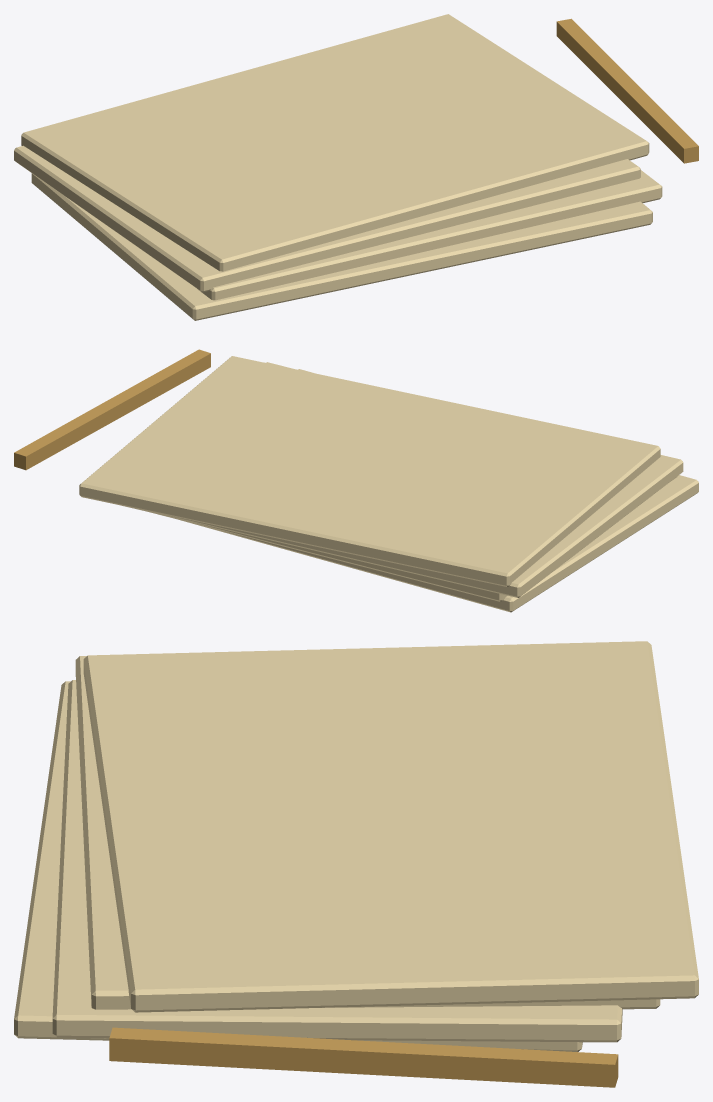
Rendered from residential_accessories_20.glb.
The picture shows the model from 3 angles, top to bottom: view 1: azimuth 30°, elevation 25°; view 2: azimuth 150°, elevation 25°; view 3: azimuth 270°, elevation 25°; orthographic projection. The views are drawn at different scales.
Visible parts, largest first — view 1: Paper_003, Paper, Paper_002, Paper_001, Pen; view 2: Paper_003, Paper_002, Paper, Pen, Paper_001; view 3: Paper_003, Paper_001, Pen, Paper, Paper_002.
Boxes of the visible parts, bbox=[...] form: Paper_003: bbox=[21, 14, 649, 271]; Paper: bbox=[31, 173, 652, 320]; Paper_002: bbox=[14, 145, 640, 292]; Paper_001: bbox=[198, 170, 662, 300]; Pen: bbox=[556, 18, 698, 163]; Paper_003: bbox=[79, 356, 660, 586]; Paper_002: bbox=[122, 362, 683, 597]; Paper: bbox=[181, 369, 698, 612]; Pen: bbox=[14, 349, 210, 470]; Paper_001: bbox=[153, 362, 676, 601]; Paper_003: bbox=[83, 641, 698, 1012]; Paper_001: bbox=[52, 680, 622, 1042]; Pen: bbox=[109, 1027, 618, 1087]; Paper: bbox=[14, 681, 582, 1051]; Paper_002: bbox=[75, 656, 660, 1009].
Size of the model in its own units: 0.4736 by 0.039 by 0.3251.
